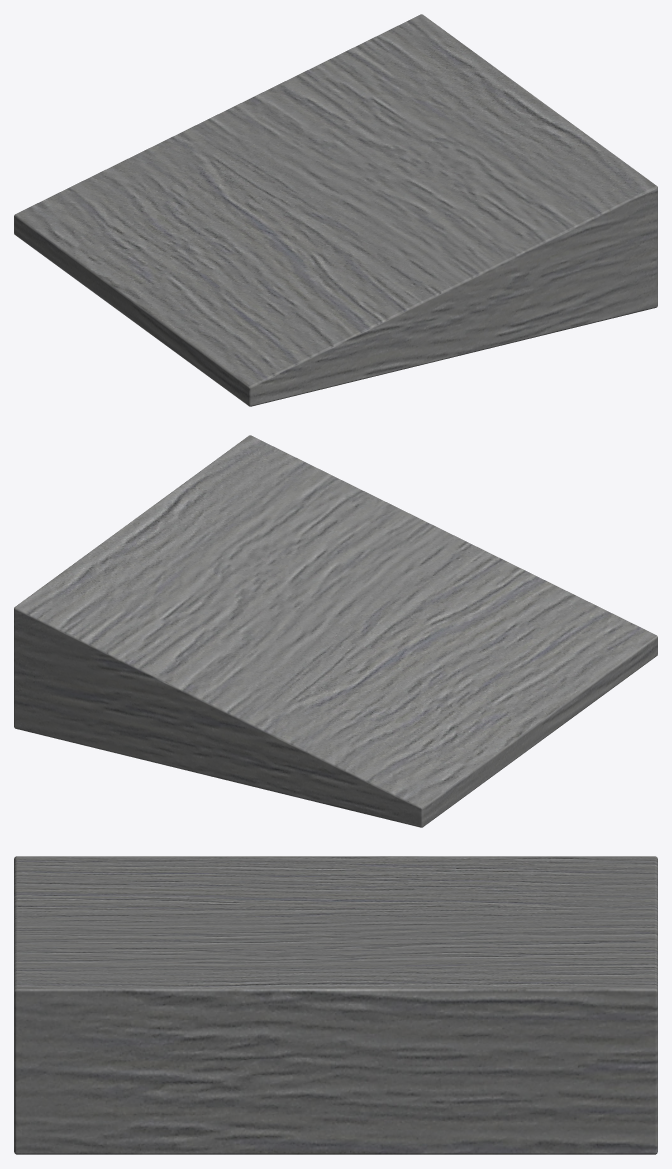
Rendered from RoofBlock001.obj.
3 renders of one model, top to bottom at view 1: azimuth 30°, elevation 25°; view 2: azimuth 150°, elevation 25°; view 3: azimuth 270°, elevation 25°, orthographic. The views are drawn at different scales.
Visible parts, largest first — view 1: pCube1; view 2: pCube1; view 3: pCube1.
Boxes of the visible parts, x1=… form: pCube1: x1=14, y1=14, x2=657, y2=406; pCube1: x1=14, y1=435, x2=657, y2=827; pCube1: x1=14, y1=856, x2=657, y2=1154.
Size of the model in its own units: 350 by 99.54 by 350.
Materials: 2 (2 with a texture image).
